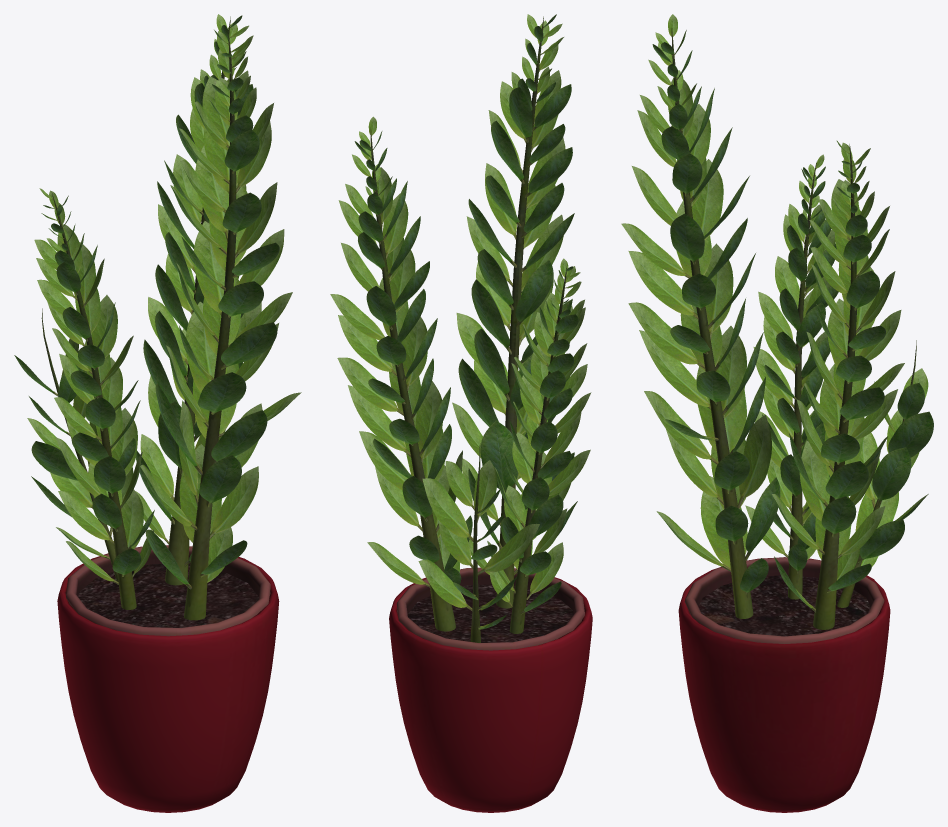
The model's file is plant1.glb.
The picture shows the model from 3 angles, left to right: view 1: azimuth 30°, elevation 25°; view 2: azimuth 150°, elevation 25°; view 3: azimuth 270°, elevation 25°; orthographic projection. The views are drawn at different scales.
Visible parts, largest first — view 1: Circle; view 2: Circle; view 3: Circle.
Part boxes in pixels (x1,y1,x2,y2): Circle: (14, 14, 301, 812); Circle: (330, 14, 592, 812); Circle: (621, 14, 933, 812).
Bounding box in the file's own units: 2.37 × 7.6 × 2.8.
6 materials, 5 textured.
